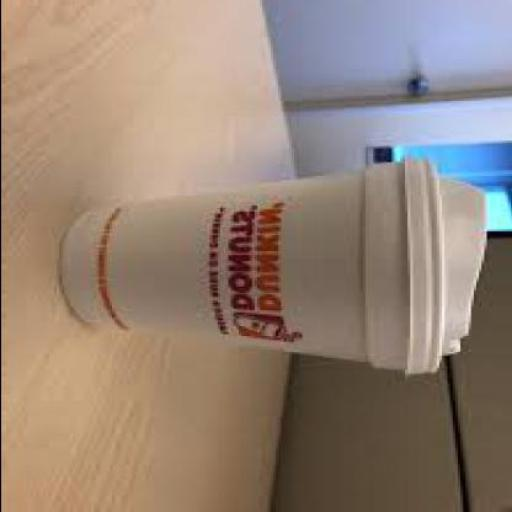paper: (61, 164, 409, 371)
